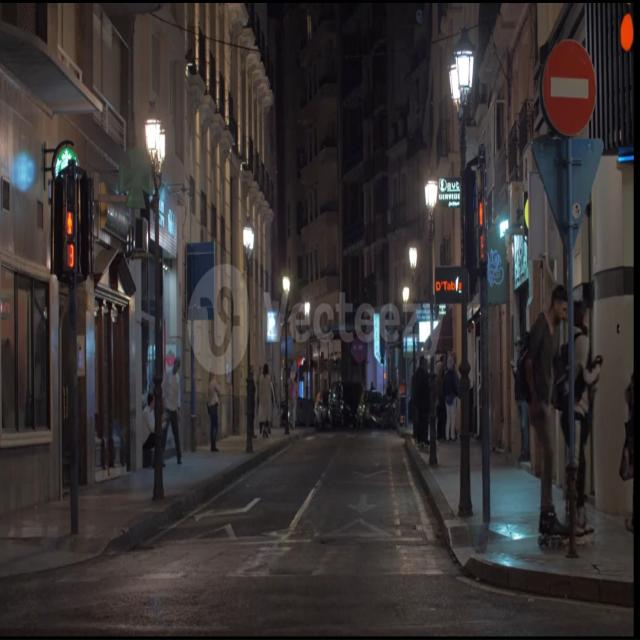pedestrian: (573, 300, 602, 534), (561, 405, 568, 439)
